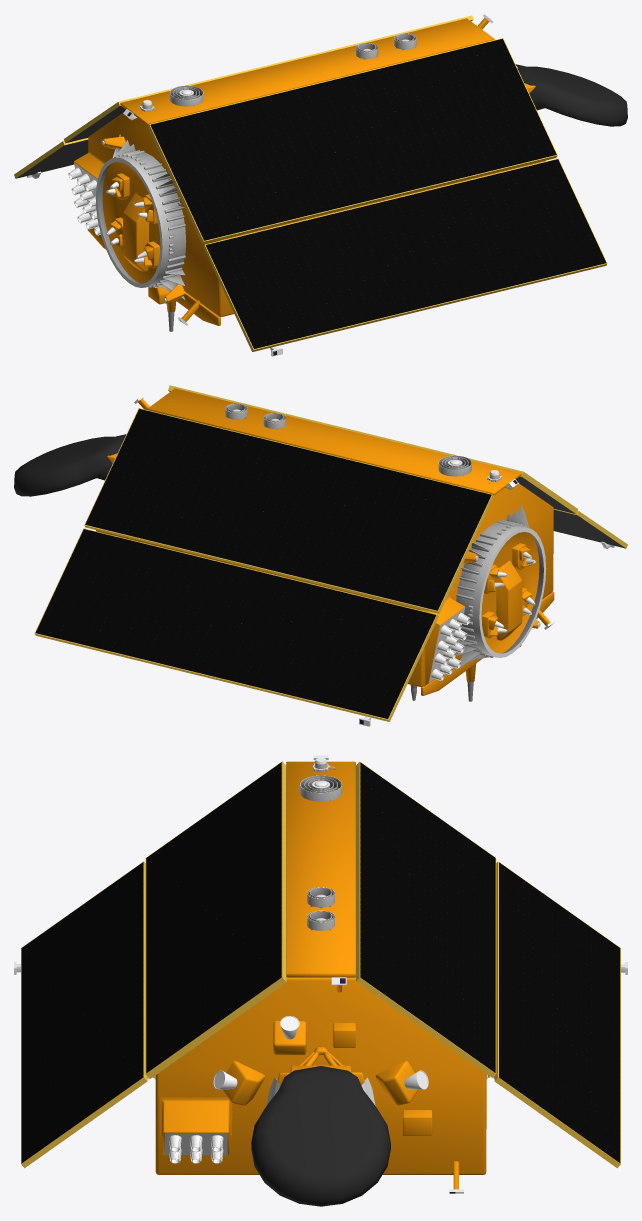
The model's file is jason-continuity-of-service-sentinel-6.glb.
The picture shows the model from 3 angles, top to bottom: view 1: azimuth 30°, elevation 25°; view 2: azimuth 150°, elevation 25°; view 3: azimuth 270°, elevation 25°; orthographic projection. The views are drawn at different scales.
Visible parts, largest first — view 1: array, Cylinder.007, MPPS, AMR, GNSS_POD_RO_SPA, GNSS; view 2: array, Cylinder.007, MPPS, AMR, GNSS, GNSS_POD_RO_SPA; view 3: array, Cylinder.007, AMR, GNSS_POD_RO_SPA, GNSS, starTrackers.
Boxes of the visible parts, x1,y1,x2,y2 form: array: [14, 15, 607, 351]; Cylinder.007: [73, 18, 545, 325]; MPPS: [95, 134, 186, 299]; AMR: [515, 64, 627, 126]; GNSS_POD_RO_SPA: [139, 33, 416, 111]; GNSS: [68, 162, 100, 235]; array: [34, 385, 627, 721]; Cylinder.007: [96, 388, 554, 695]; MPPS: [456, 504, 546, 669]; AMR: [14, 434, 126, 496]; GNSS: [429, 607, 470, 682]; GNSS_POD_RO_SPA: [225, 403, 501, 483]; array: [21, 761, 620, 1168]; Cylinder.007: [155, 761, 486, 1189]; AMR: [251, 1066, 390, 1206]; GNSS_POD_RO_SPA: [300, 757, 342, 930]; GNSS: [164, 1133, 227, 1163]; starTrackers: [213, 1016, 428, 1089].
Size of the model in its own units: 5.13 by 2.32 by 4.37.
Materials: 17 (4 with a texture image).
